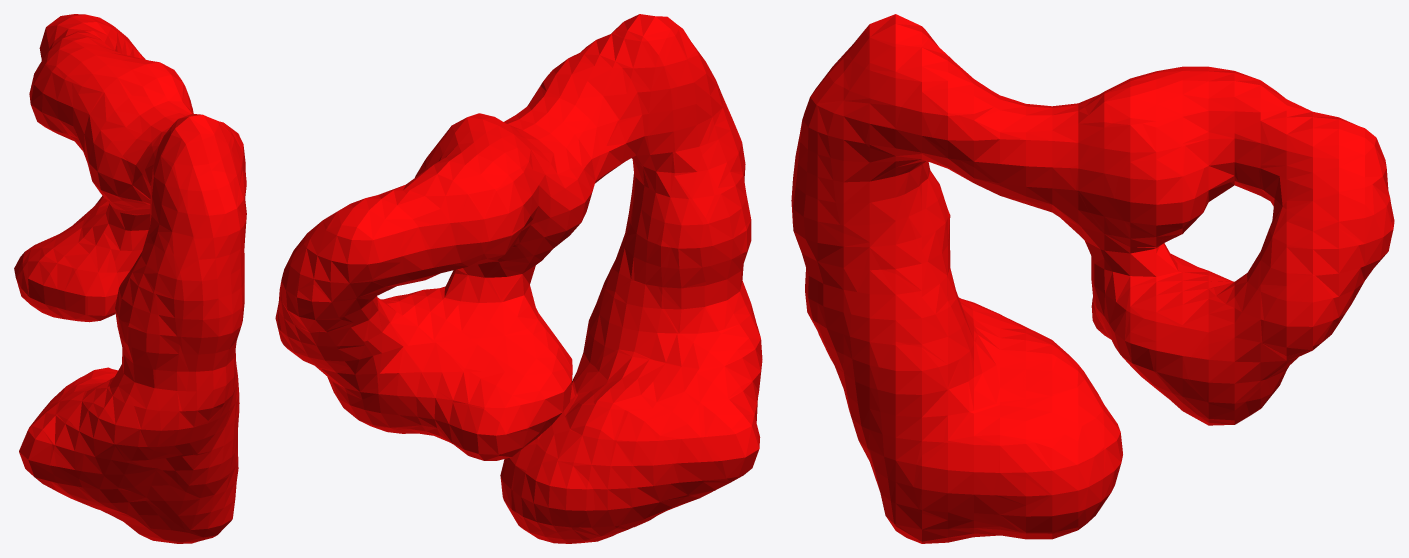
The model's file is tatA_coarse.dae.
3 renders of one model, left to right at view 1: azimuth 30°, elevation 25°; view 2: azimuth 150°, elevation 25°; view 3: azimuth 270°, elevation 25°, orthographic. The views are drawn at different scales.
Parts seen in each view (by area): view 1: tatA; view 2: tatA; view 3: tatA.
Boxes of the visible parts, left/top/right/bottom form: tatA: left=14, top=14, right=246, bottom=543; tatA: left=275, top=14, right=762, bottom=543; tatA: left=791, top=14, right=1394, bottom=543.
Bounding box in the file's own units: 36.76 × 52.65 × 55.43.
